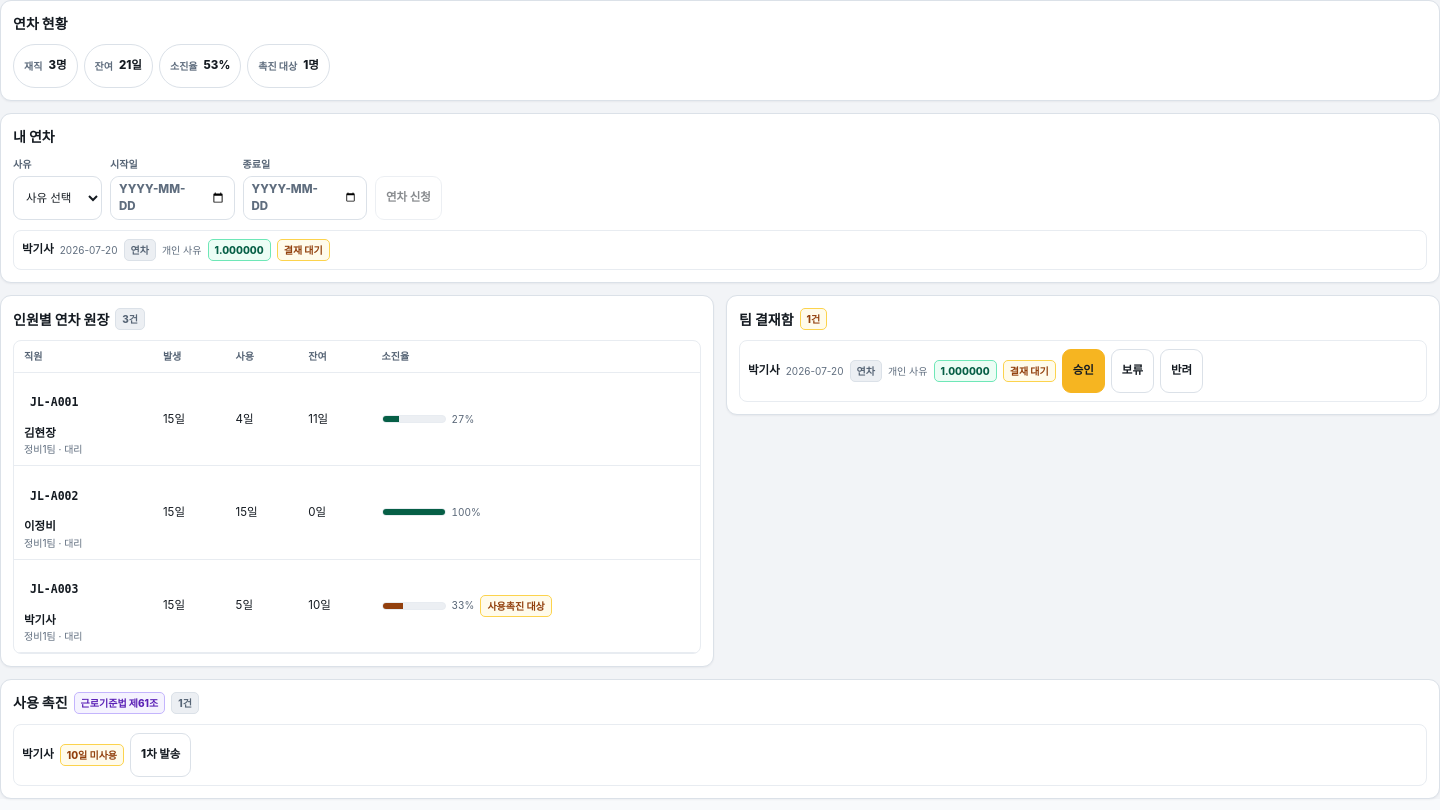
Scenario: LeaveConsole (레인1 leave 카드 존, real-wired) › 사용촉진 발송: a resolvable target sends round 1 via the real POST payload
The width and height of the screenshot is (1440, 810).
What coordinates should you click on to do the following:
click the button "1차 발송"
I would click on:
 (161, 755)
Its box is left=130, top=733, right=191, bottom=777.
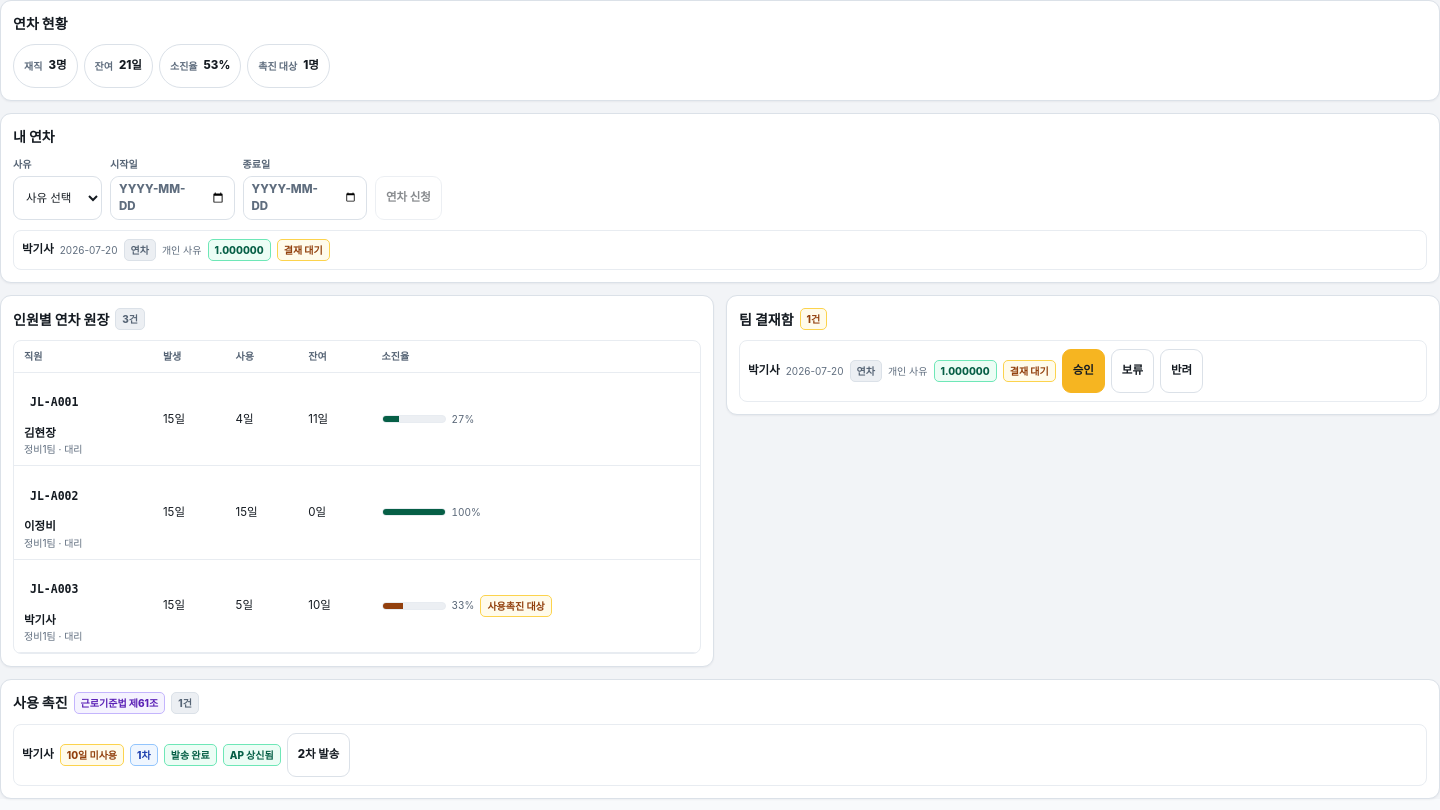
Now the text "발송 완료" is shown, box left=164, top=744, right=217, bottom=766
